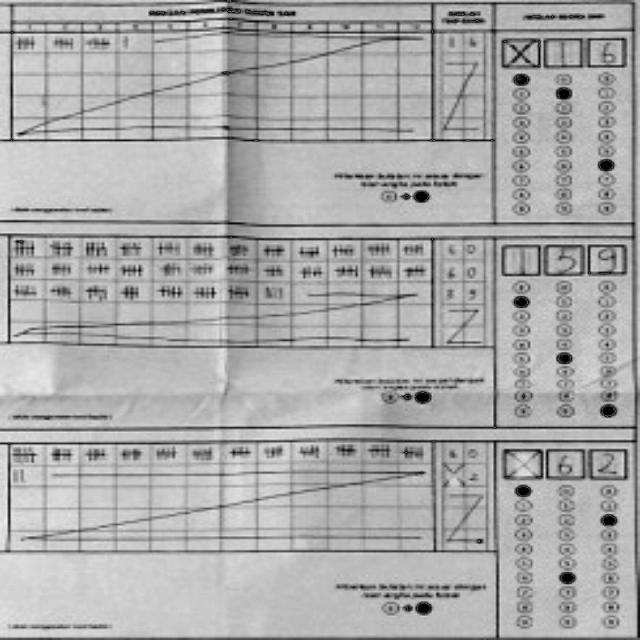Suara: (498, 30, 628, 71), (498, 444, 630, 479), (502, 242, 626, 276)
